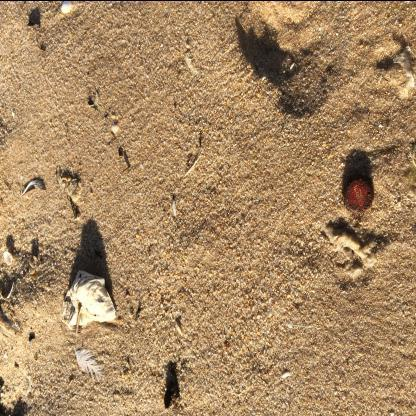metal: (345, 176, 375, 216)
